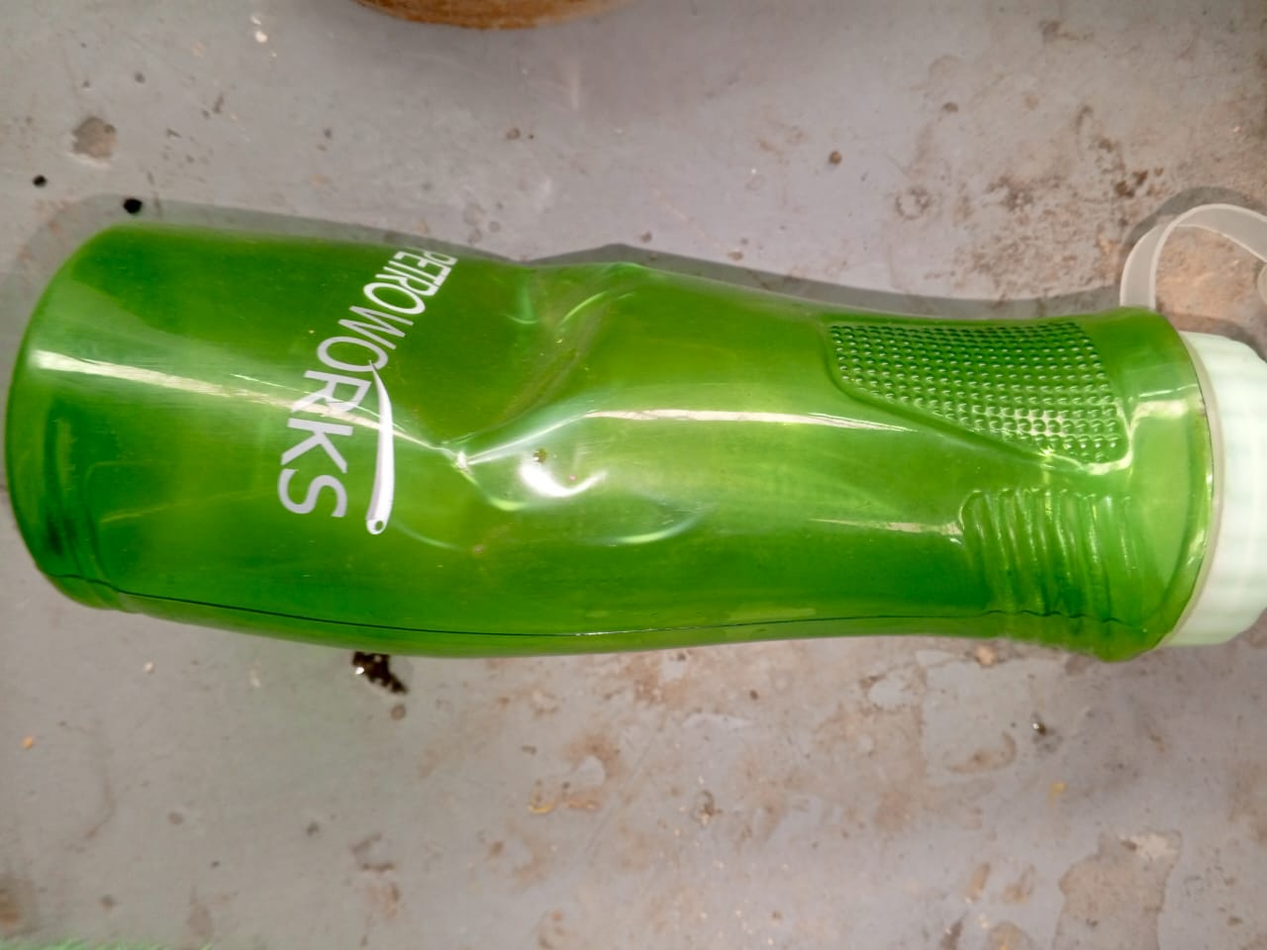Plastico: (7, 225, 1267, 659)
